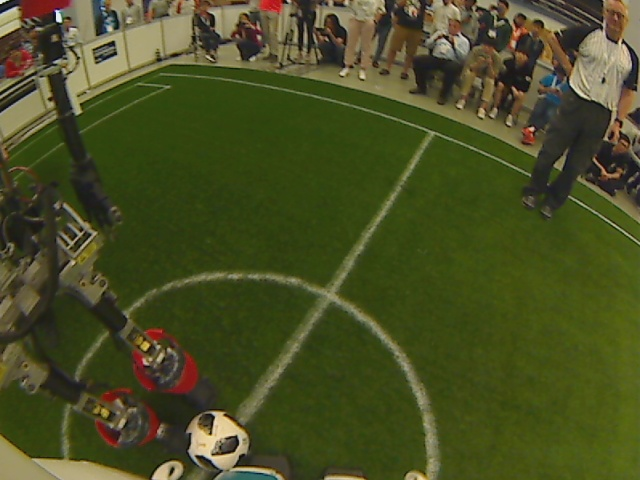ball: (183, 407, 251, 472)
